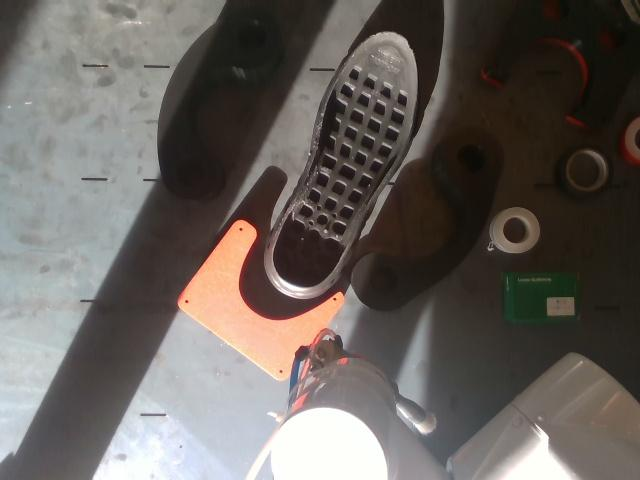shoes: (273, 31, 417, 288)
